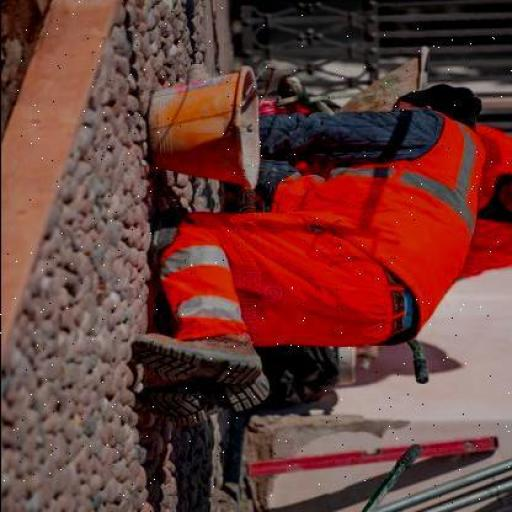safety_shoe: (134, 375, 275, 424), (131, 332, 264, 382)
